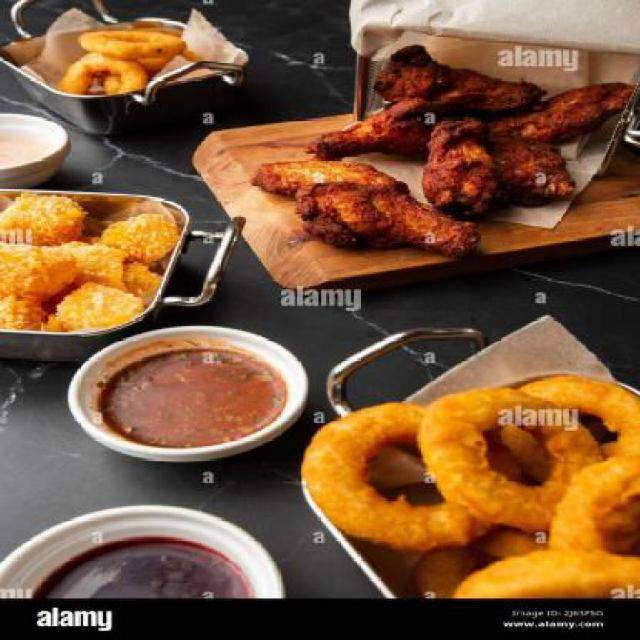chicken wings: (253, 43, 639, 266)
onion rings: (315, 354, 639, 598), (63, 22, 219, 104)
